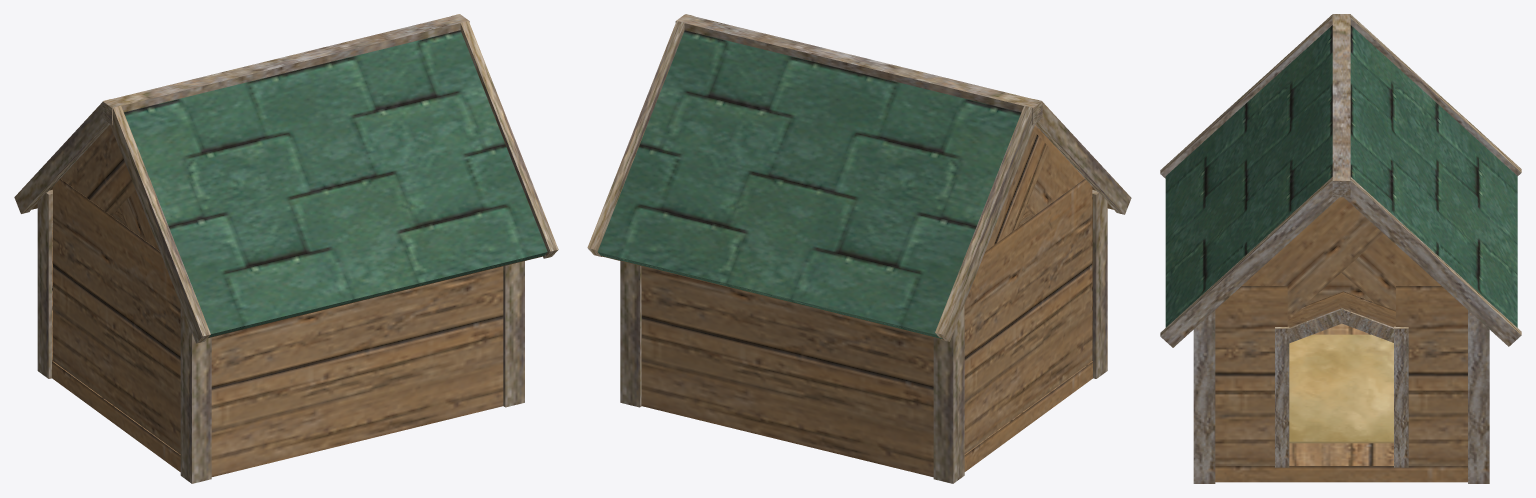
File: dog house.fbx
The picture shows the model from 3 angles, left to right: view 1: azimuth 30°, elevation 25°; view 2: azimuth 150°, elevation 25°; view 3: azimuth 270°, elevation 25°; orthographic projection. The views are drawn at different scales.
Parts seen in each view (by area): view 1: Object_4, Object_2, Object_3; view 2: Object_4, Object_2, Object_3; view 3: Object_4, Object_2, Object_3, Object_6.
Boxes of the visible parts, x1,y1,x2,y2 form: Object_4: [124, 30, 547, 337]; Object_2: [52, 125, 503, 476]; Object_3: [14, 14, 558, 483]; Object_4: [597, 30, 1021, 338]; Object_2: [641, 125, 1092, 477]; Object_3: [587, 14, 1131, 483]; Object_4: [1165, 25, 1517, 327]; Object_2: [1215, 197, 1467, 482]; Object_3: [1160, 14, 1521, 483]; Object_6: [1289, 334, 1393, 443].
Size of the model in its own units: 2190 by 1902 by 2001.
Materials: 5 (5 with a texture image).
